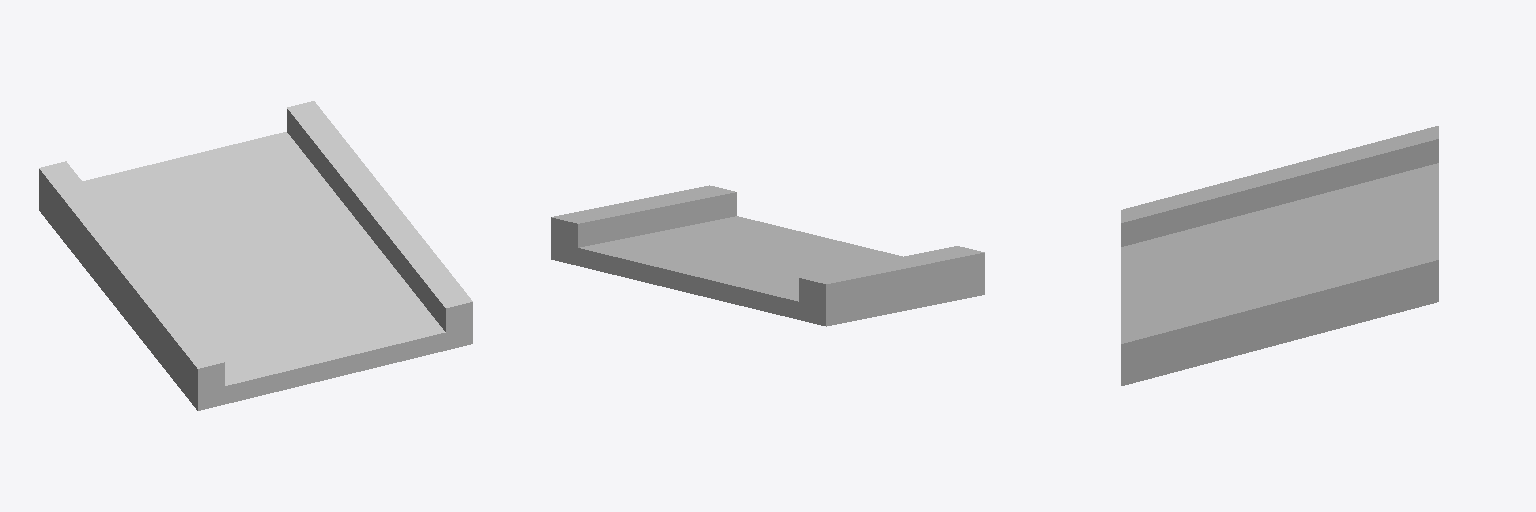
Rendered from Ramp_2_01.obj.
3 renders of one model, left to right at view 1: azimuth 30°, elevation 25°; view 2: azimuth 150°, elevation 25°; view 3: azimuth 270°, elevation 25°, orthographic.
Parts seen in each view (by area): view 1: Mesh1 Ramp_2 Model; view 2: Mesh1 Ramp_2 Model; view 3: Mesh1 Ramp_2 Model.
Boxes of the visible parts, x1,y1,x2,y2 form: Mesh1 Ramp_2 Model: [39, 101, 472, 410]; Mesh1 Ramp_2 Model: [551, 185, 984, 326]; Mesh1 Ramp_2 Model: [1121, 126, 1438, 385].
Size of the model in its own units: 3 by 1.32 by 3.